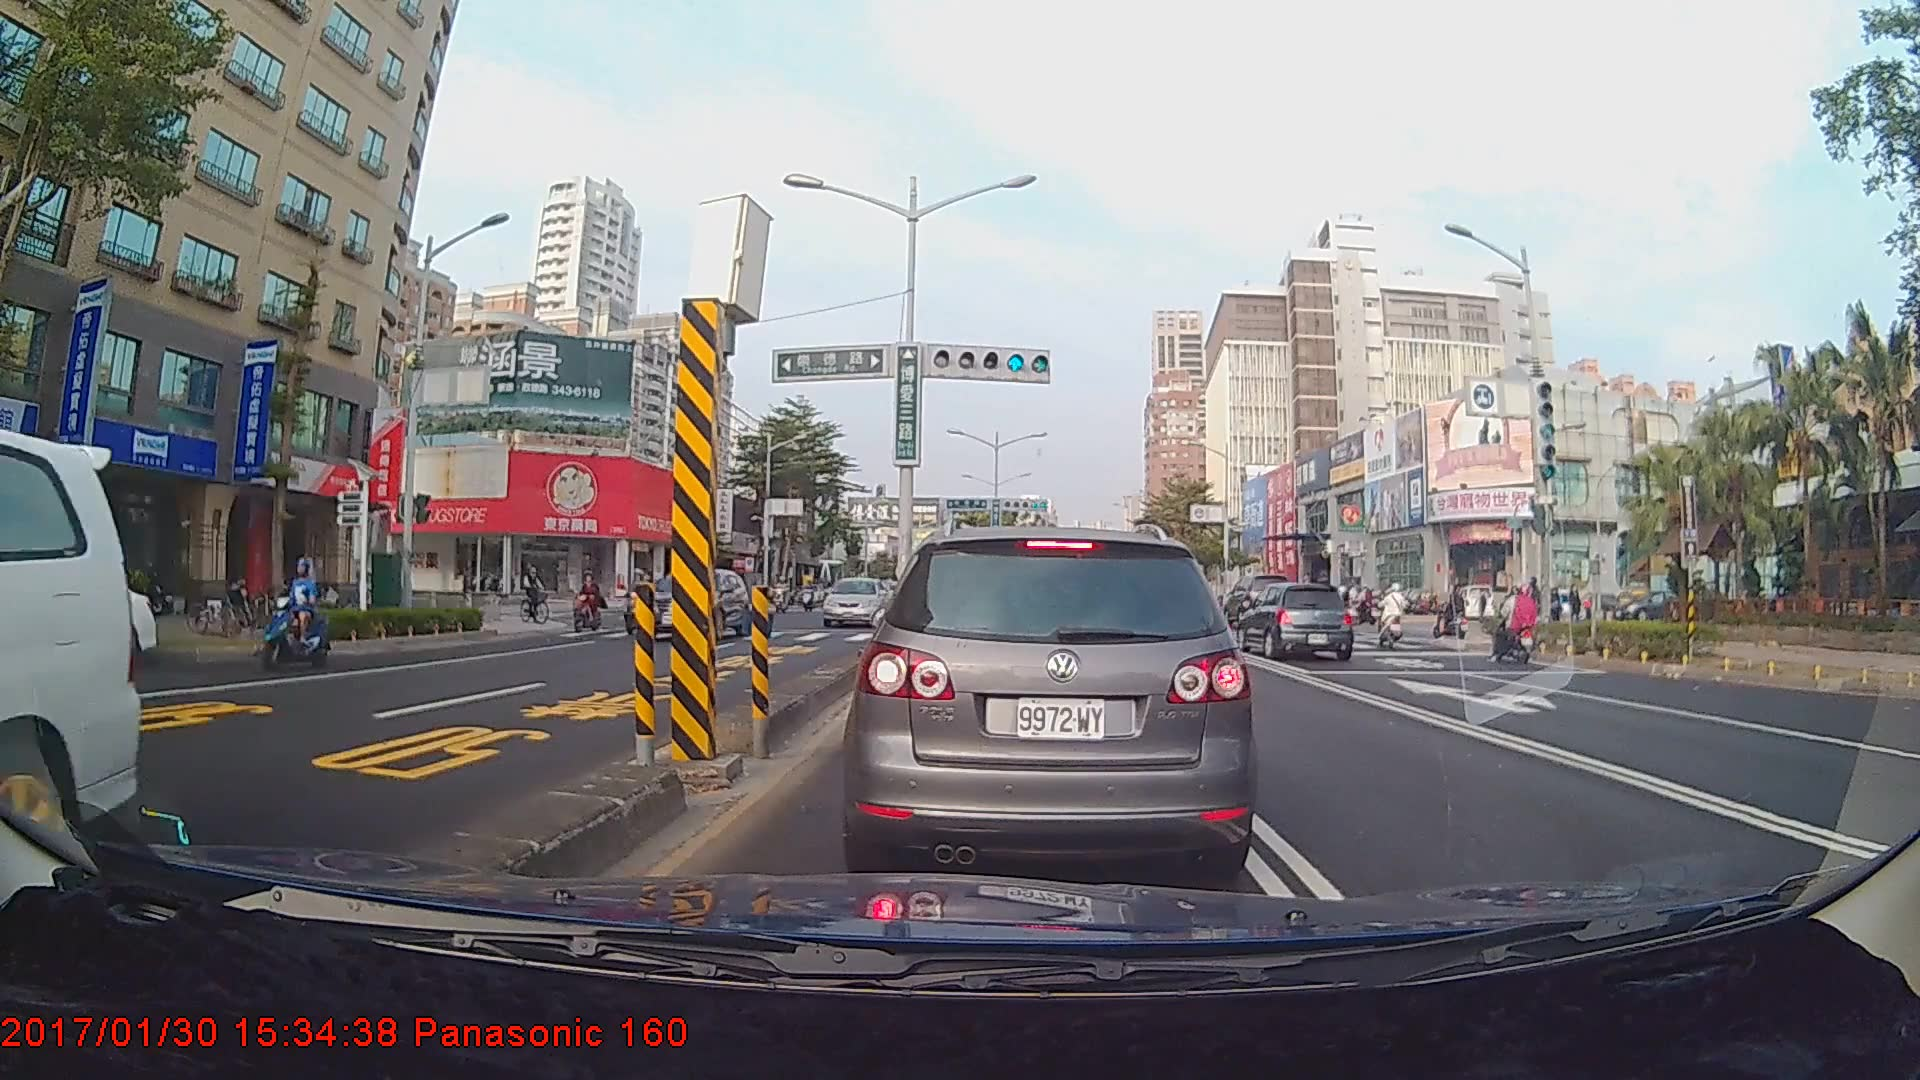rider: (1485, 582, 1548, 668), (566, 567, 614, 640), (518, 559, 561, 629), (1436, 582, 1473, 646), (1377, 584, 1410, 649)
vehicle: (854, 521, 1251, 875), (1234, 580, 1353, 661), (637, 567, 751, 640), (821, 574, 890, 626)
